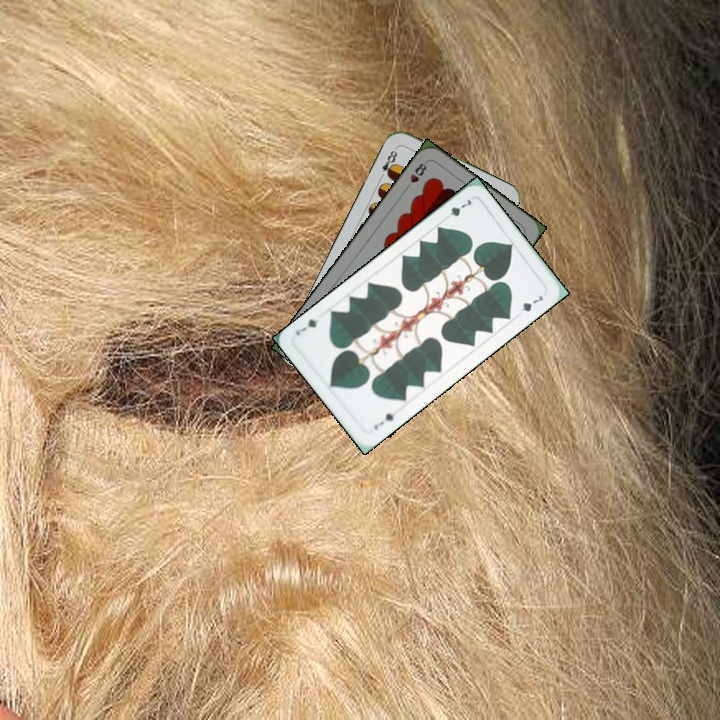E8: (376, 144, 400, 182)
G7: (439, 193, 474, 223), (370, 409, 397, 432)
H8: (401, 157, 430, 193)
